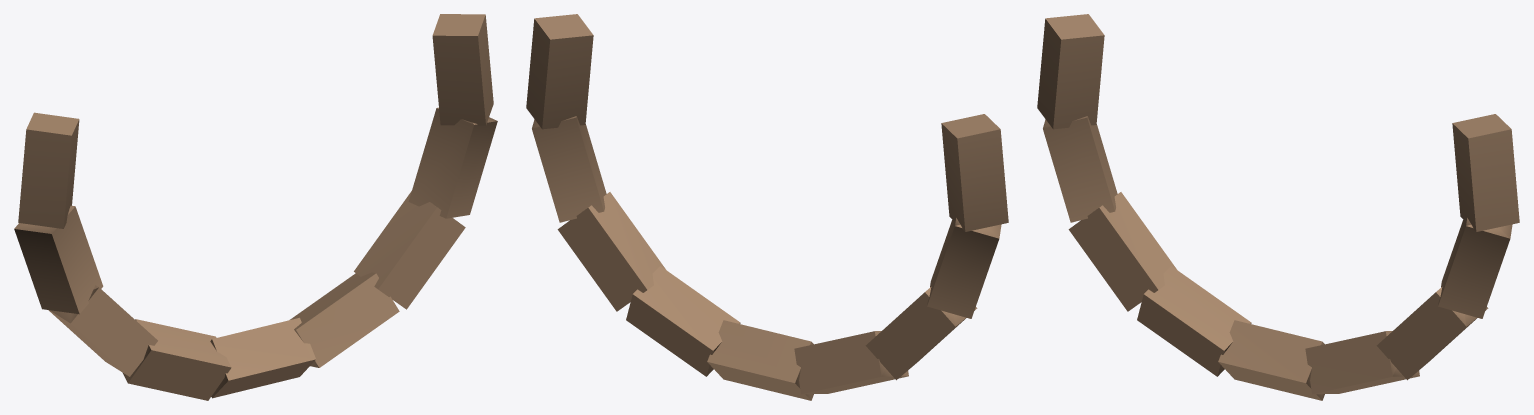
Rendered from horseshoe.glb.
3 renders of one model, left to right at view 1: azimuth 30°, elevation 25°; view 2: azimuth 150°, elevation 25°; view 3: azimuth 330°, elevation 25°, orthographic.
Visible parts, largest first — view 1: static; view 2: static; view 3: static.
Boxes of the visible parts, <box> form: static: <box>14,14,497,400</box>; static: <box>526,14,1008,400</box>; static: <box>1037,14,1519,400</box>.
Size of the model in its own units: 0.1351 by 0.0852 by 0.016.
